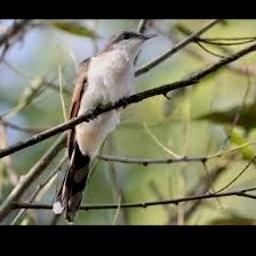Cuckoo: (51, 31, 159, 225)
